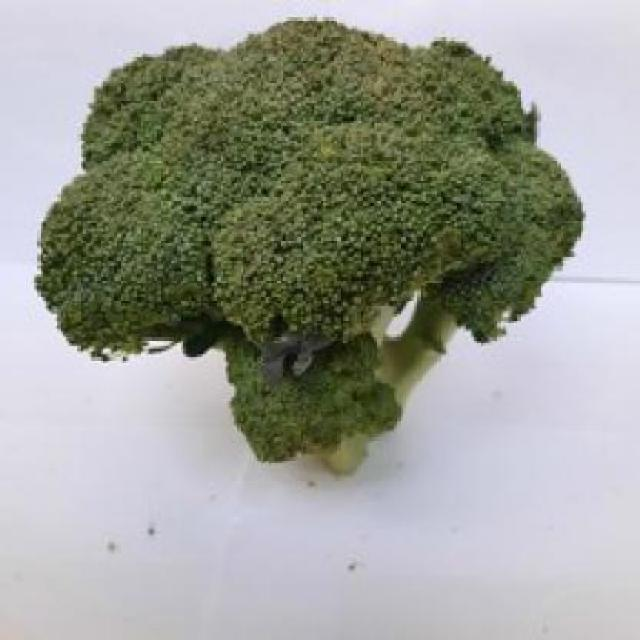broccoli: (54, 37, 572, 480)
